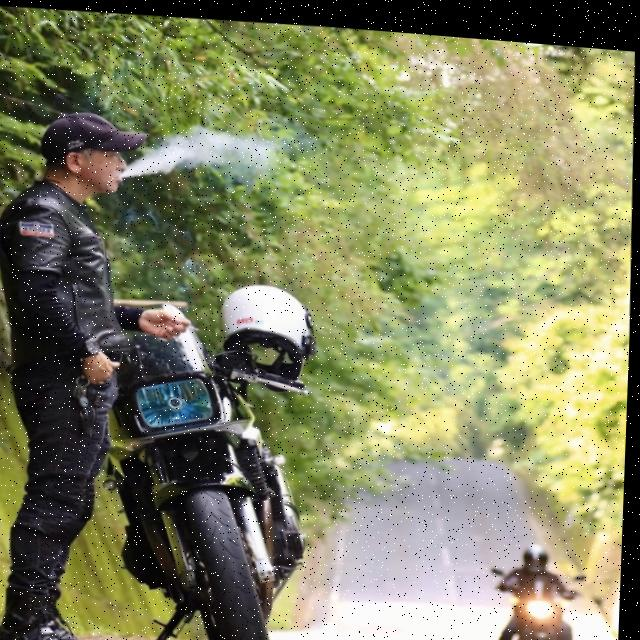illegal_helmet: (33, 100, 158, 202)
